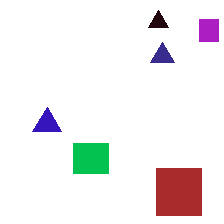rectangle: (156, 168, 201, 215), (73, 143, 108, 173), (199, 19, 218, 41)
triangle: (32, 107, 61, 131), (150, 42, 174, 62), (148, 10, 168, 27)
